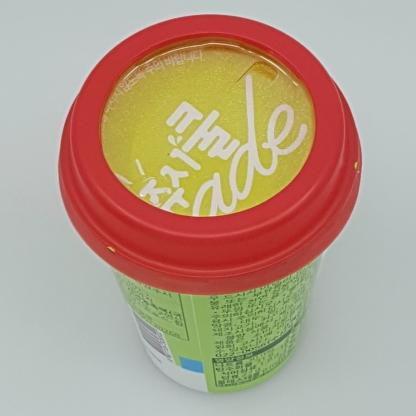--------: (58, 15, 362, 394)
